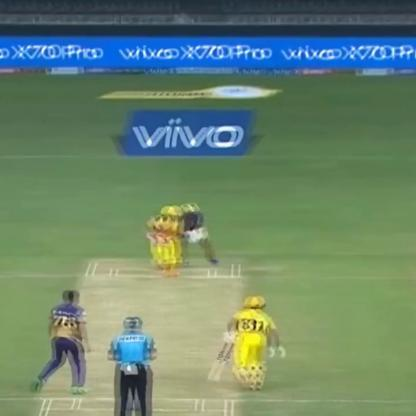pitch: (40, 252, 244, 416)
